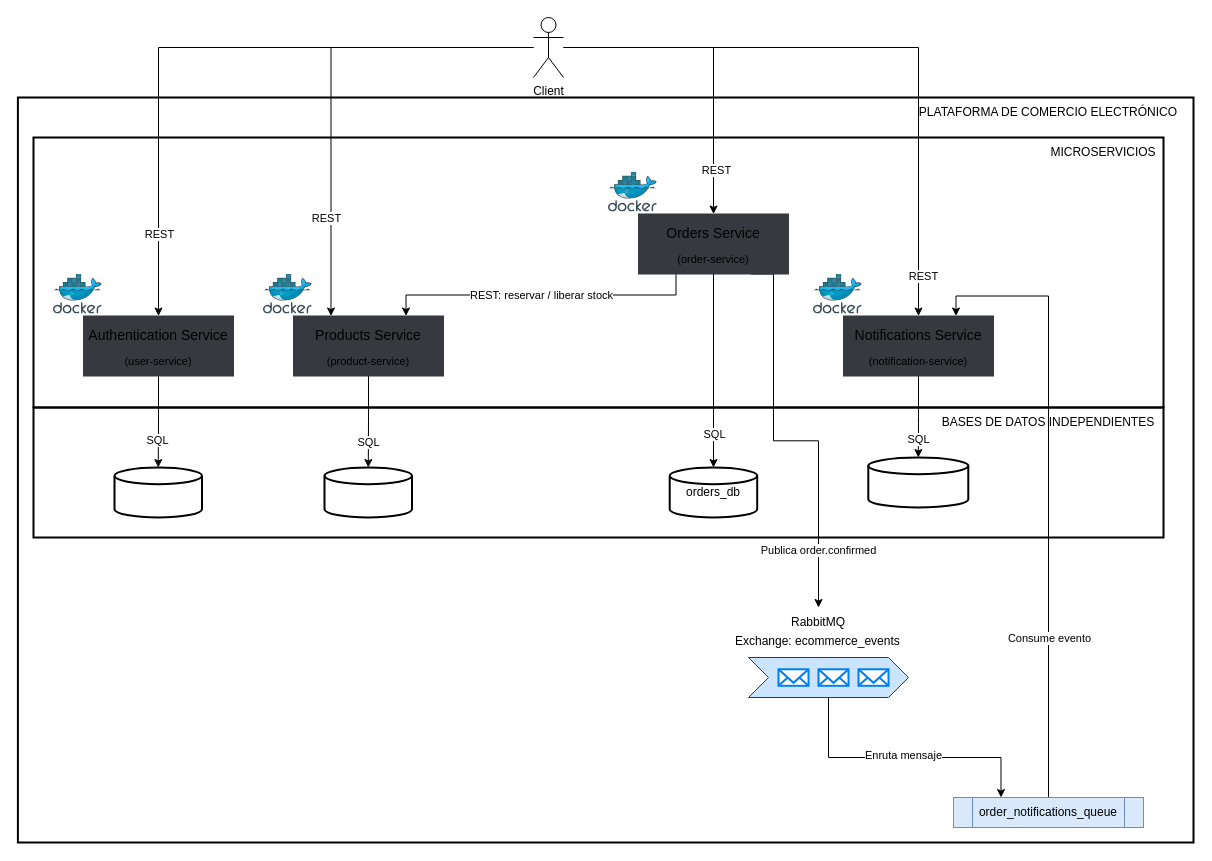
Image size: 1212x861. Some labels were removed from this diagram. The centre of each missing label's shape, as x and y in pixels:
"notifications_db" goes at (x=918, y=482).
"products_db" goes at (x=367, y=492).
"users_db" goes at (x=157, y=492).
